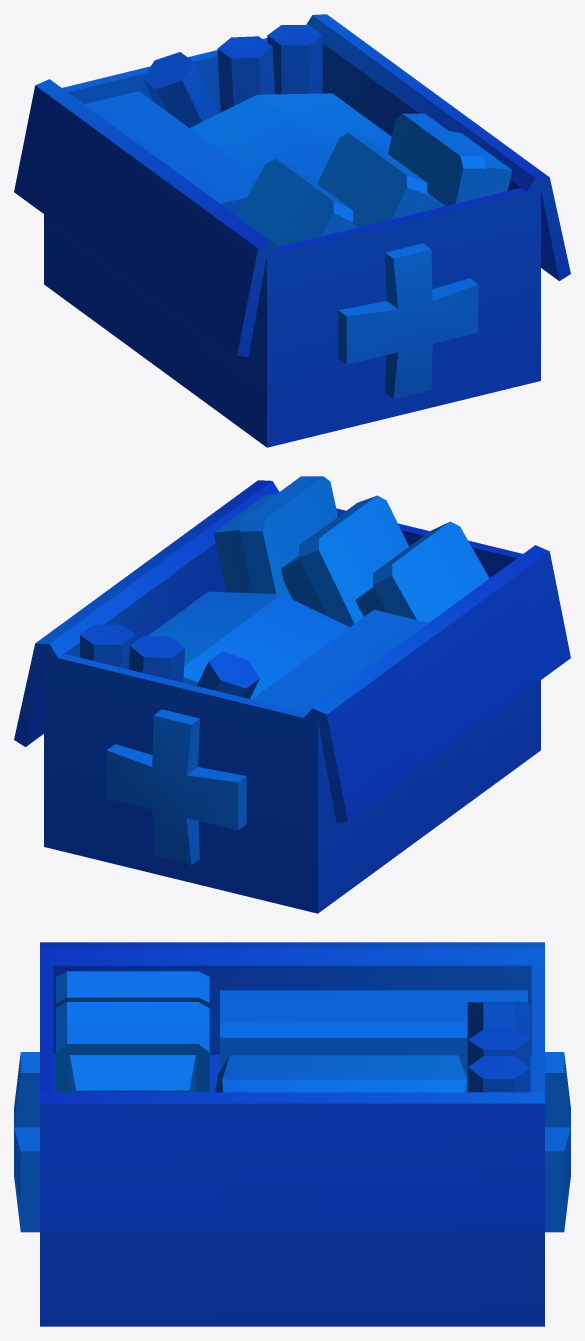
The model's file is HealthPack.fbx.
The picture shows the model from 3 angles, top to bottom: view 1: azimuth 30°, elevation 25°; view 2: azimuth 150°, elevation 25°; view 3: azimuth 270°, elevation 25°; orthographic projection. The views are drawn at different scales.
Visible parts, largest first — view 1: herysupac; view 2: herysupac; view 3: herysupac.
Boxes of the visible parts, <box> form: herysupac: <box>14,14,570,447</box>; herysupac: <box>14,476,570,913</box>; herysupac: <box>14,942,570,1326</box>.
Size of the model in its own units: 173 by 115 by 221.
